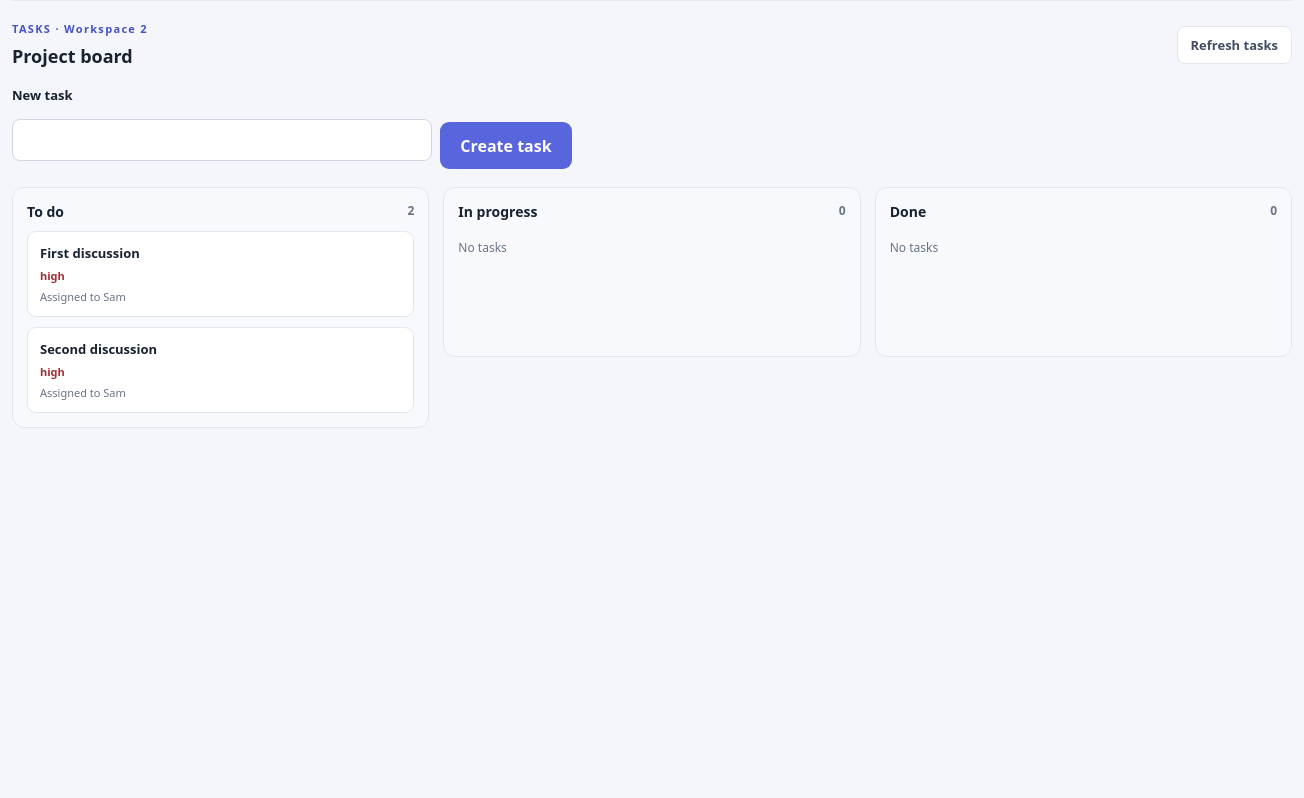
project task board › clears selected-task comments and activity when switching tasks
The width and height of the screenshot is (1304, 798).
Click the button "First discussion high Assigned to Sam" at (90, 253), box [27,231,414,317]
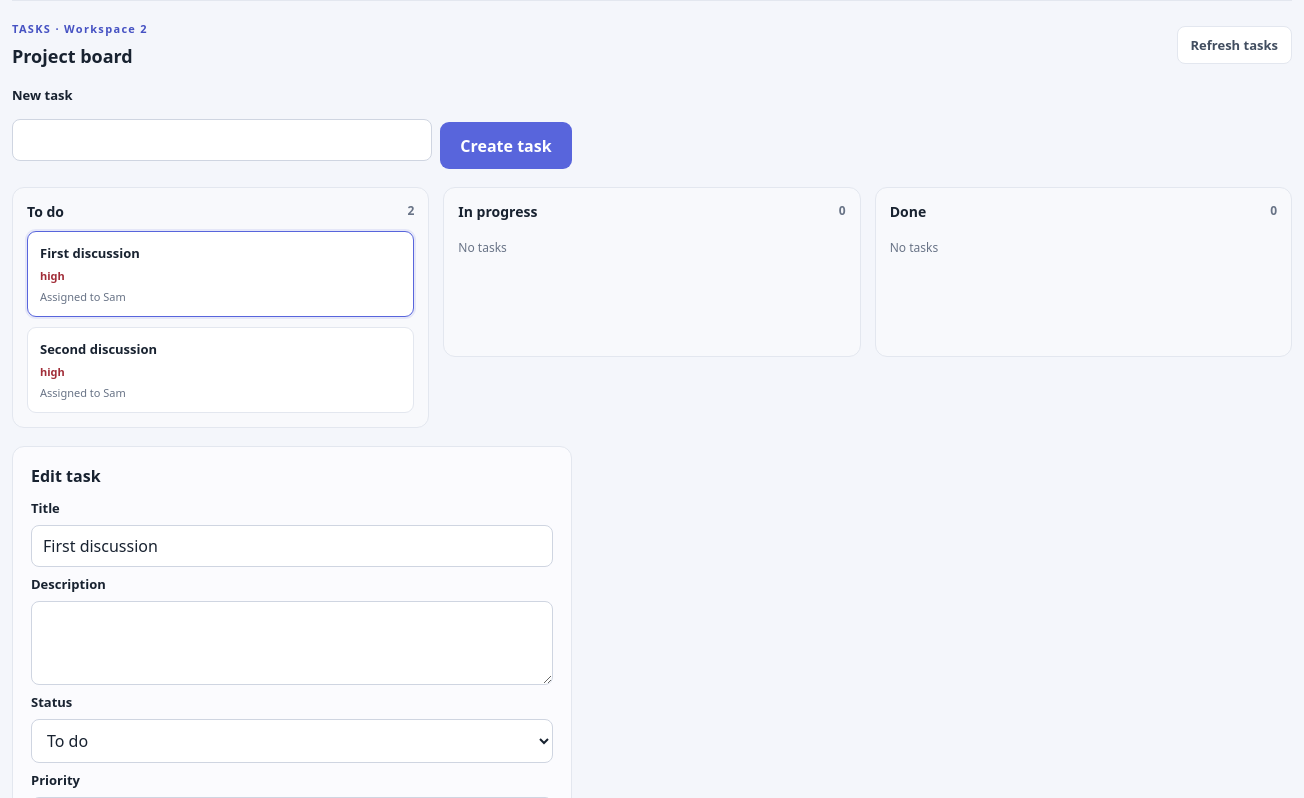
Click the button "Second discussion high Assigned to Sam" at (99, 349), box [27,327,414,413]
(page scrolled)
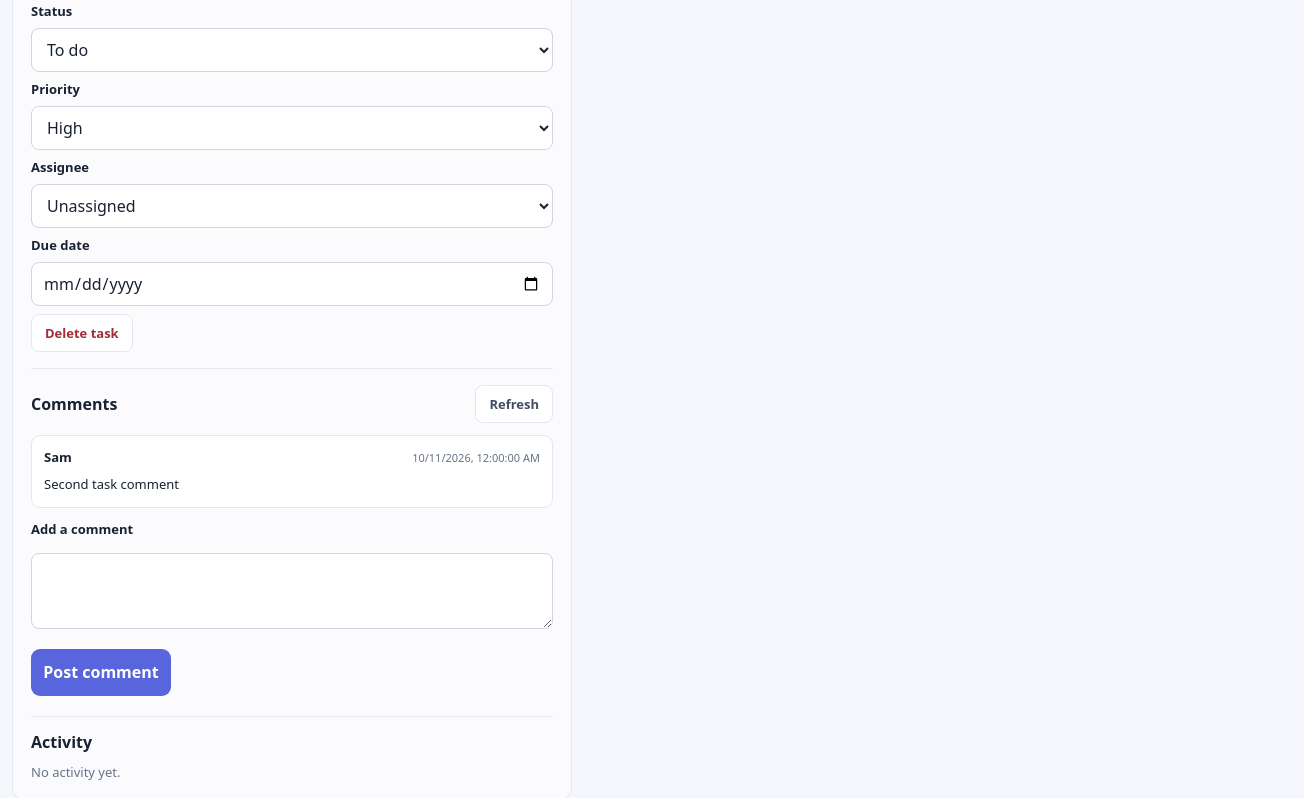
Expected: the text "Second task comment" is shown, [44,475,179,493]
